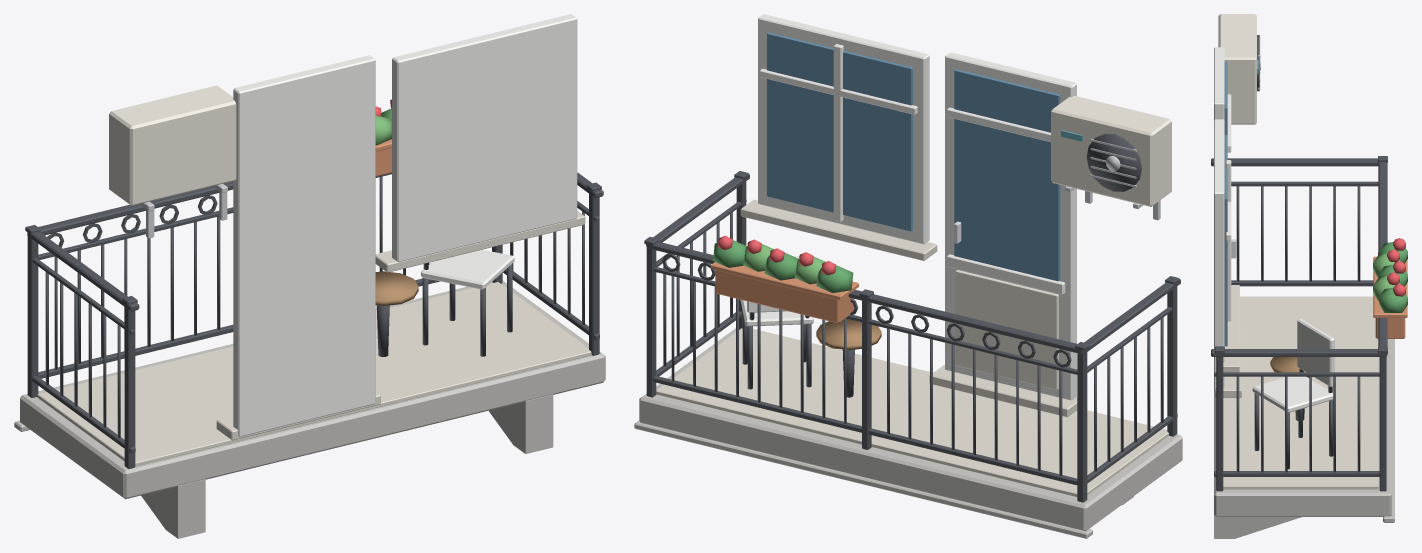
The model's file is Sultanbeyli_Balcony_ClassicIron.fbx.
3 renders of one model, left to right at view 1: azimuth 30°, elevation 25°; view 2: azimuth 150°, elevation 25°; view 3: azimuth 270°, elevation 25°, orthographic. The views are drawn at different scales.
Visible parts, largest first — view 1: Sultanbeyli_Balcony_ClassicIron; view 2: Sultanbeyli_Balcony_ClassicIron; view 3: Sultanbeyli_Balcony_ClassicIron.
Part boxes in pixels (x1,y1,x2,y2): Sultanbeyli_Balcony_ClassicIron: (14,14,605,538); Sultanbeyli_Balcony_ClassicIron: (634,14,1182,538); Sultanbeyli_Balcony_ClassicIron: (1211,14,1407,538).
Size of the model in its own units: 3.2 by 2.7 by 1.33.
